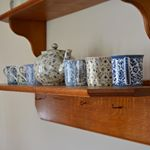cups: (109, 54, 145, 88), (16, 62, 37, 86)
